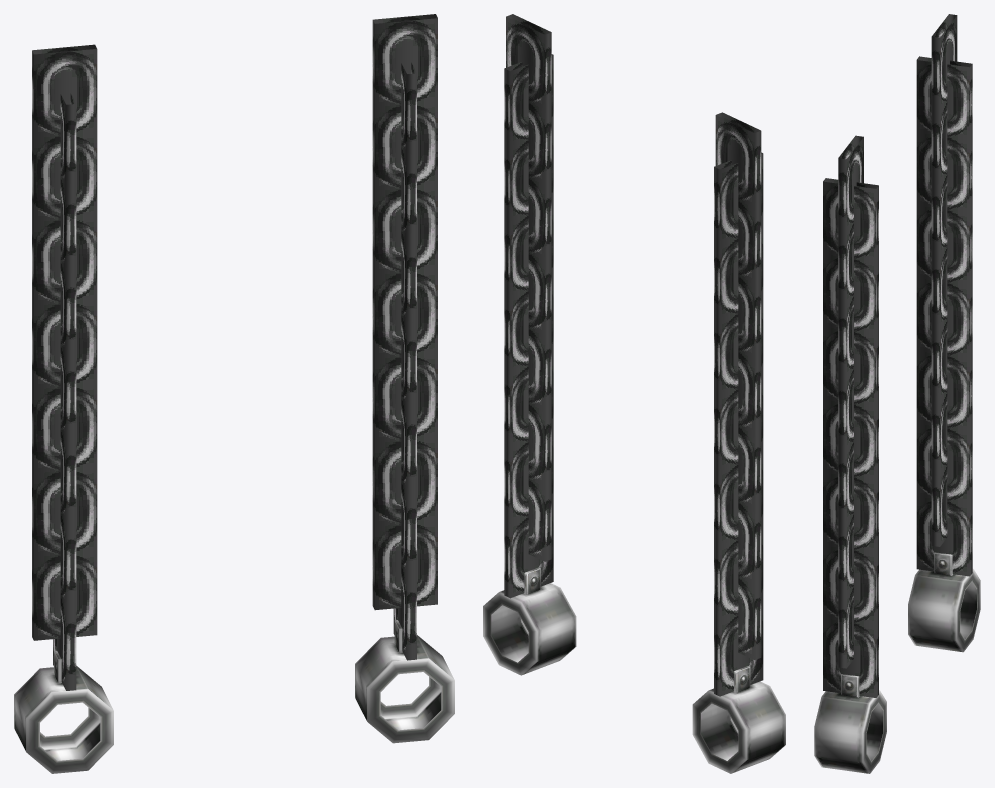
The model's file is SWORDLIGHT20_INST_CHAINCUFFS_LOD1_07.fbx.
The picture shows the model from 3 angles, left to right: view 1: azimuth 30°, elevation 25°; view 2: azimuth 150°, elevation 25°; view 3: azimuth 270°, elevation 25°; orthographic projection. The views are drawn at different scales.
Parts seen in each view (by area): view 1: SWORDLIGHT20_INST_CHAINCUFFS_LOD1_07; view 2: SWORDLIGHT20_INST_CHAINCUFFS_LOD1_07; view 3: SWORDLIGHT20_INST_CHAINCUFFS_LOD1_07.
Part boxes in pixels (x1,y1,x2,y2): SWORDLIGHT20_INST_CHAINCUFFS_LOD1_07: (14,14,454,773); SWORDLIGHT20_INST_CHAINCUFFS_LOD1_07: (483,14,785,773); SWORDLIGHT20_INST_CHAINCUFFS_LOD1_07: (814,14,980,773).
Size of the model in its own units: 6721 by 12114 by 2959.
Materials: 2 (2 with a texture image).
